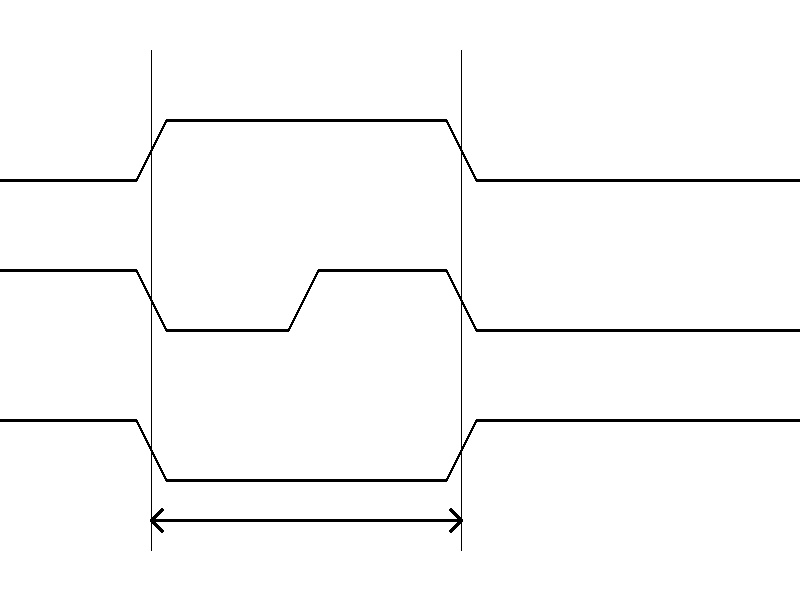double_arrow: (151, 505, 461, 535)
